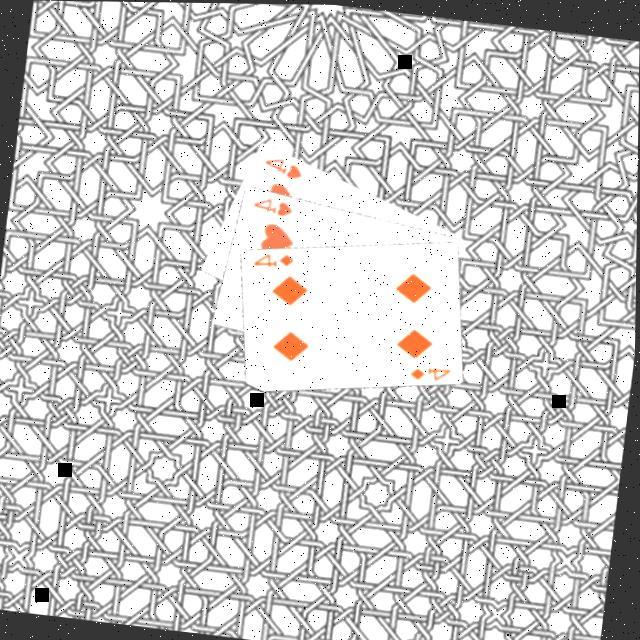4D: (247, 243, 295, 271), (404, 356, 452, 384)
4H: (257, 149, 304, 181), (247, 190, 294, 219)
